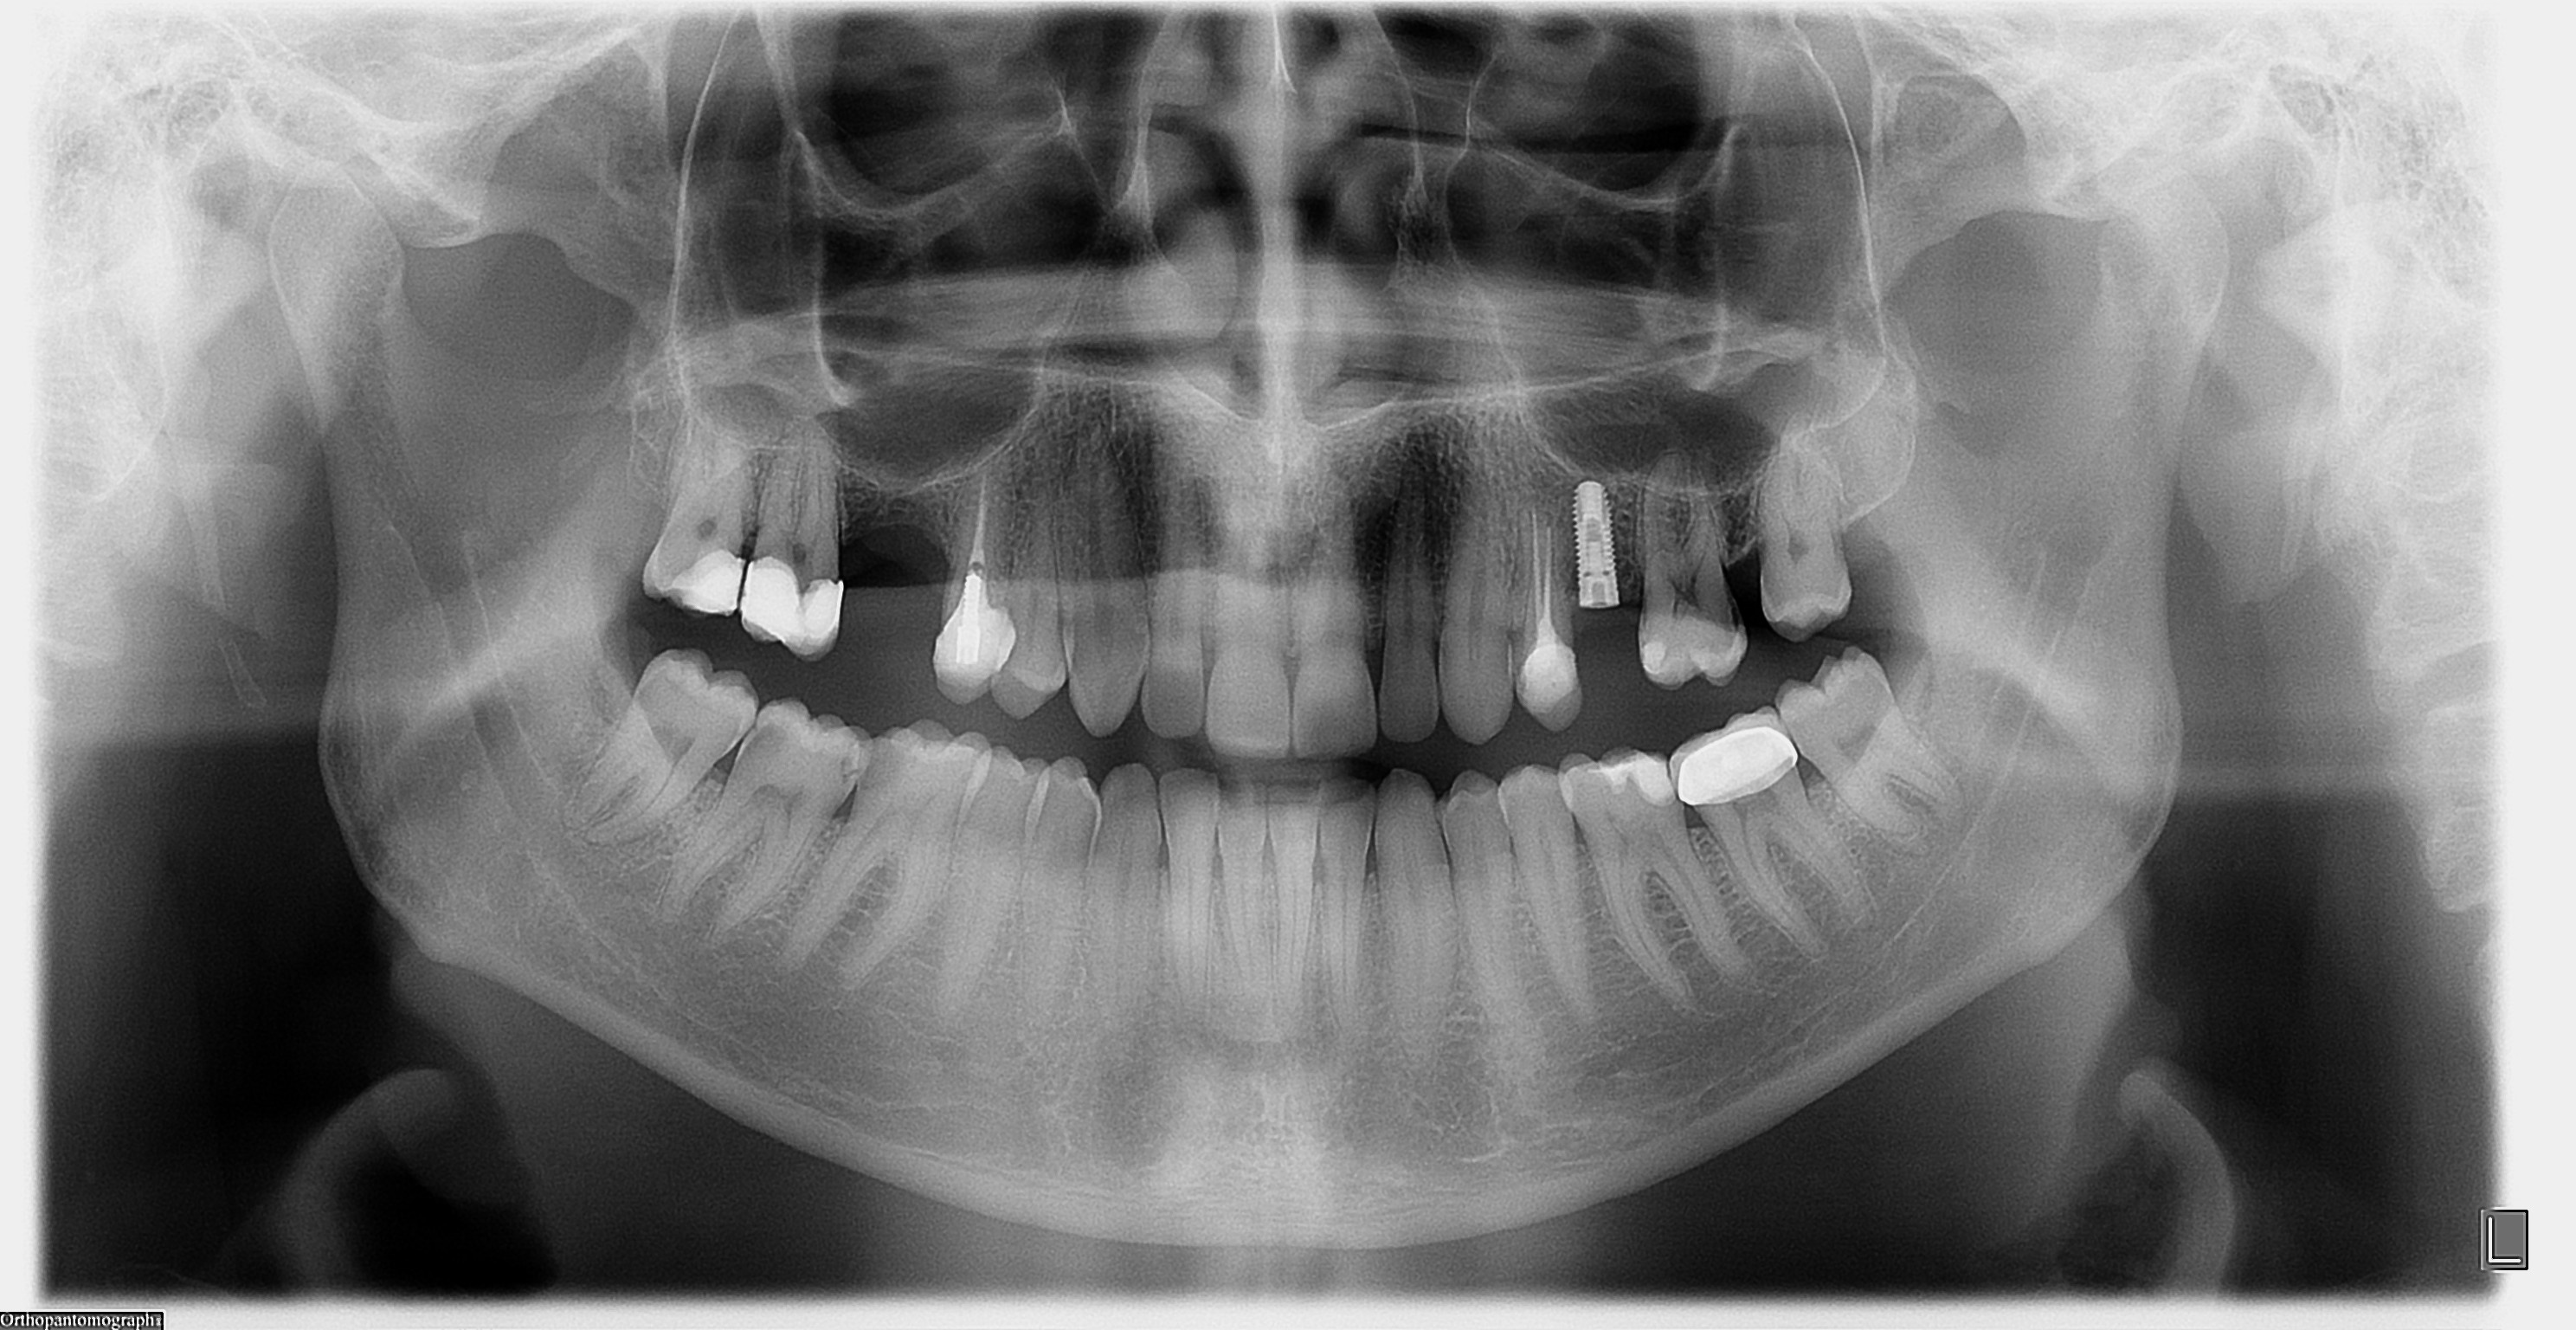END: (1503, 483, 1574, 660), (950, 455, 1009, 582)
IMP: (1555, 468, 1631, 626)
OBT: (729, 555, 873, 675), (921, 573, 1034, 707), (663, 528, 753, 638), (1572, 738, 1687, 819), (1499, 643, 1577, 735), (1626, 624, 1677, 685)
PRR: (1670, 685, 1801, 826)
